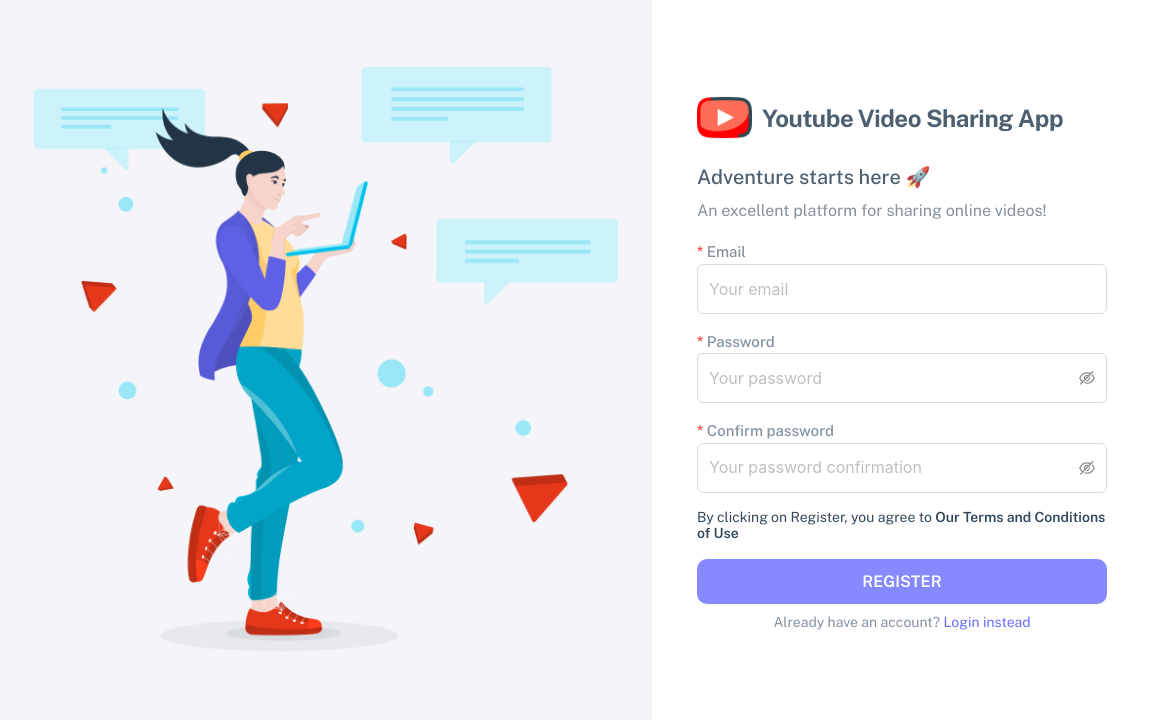
Test: Register Page › submits the register form in case empty confirm password, not empty email, not empty password
This screenshot has width=1152, height=720.
Type "client@gmail.com" into the field with placeholder "Your email". click: {"x": 902, "y": 289}
box: [697,264,1107,314]
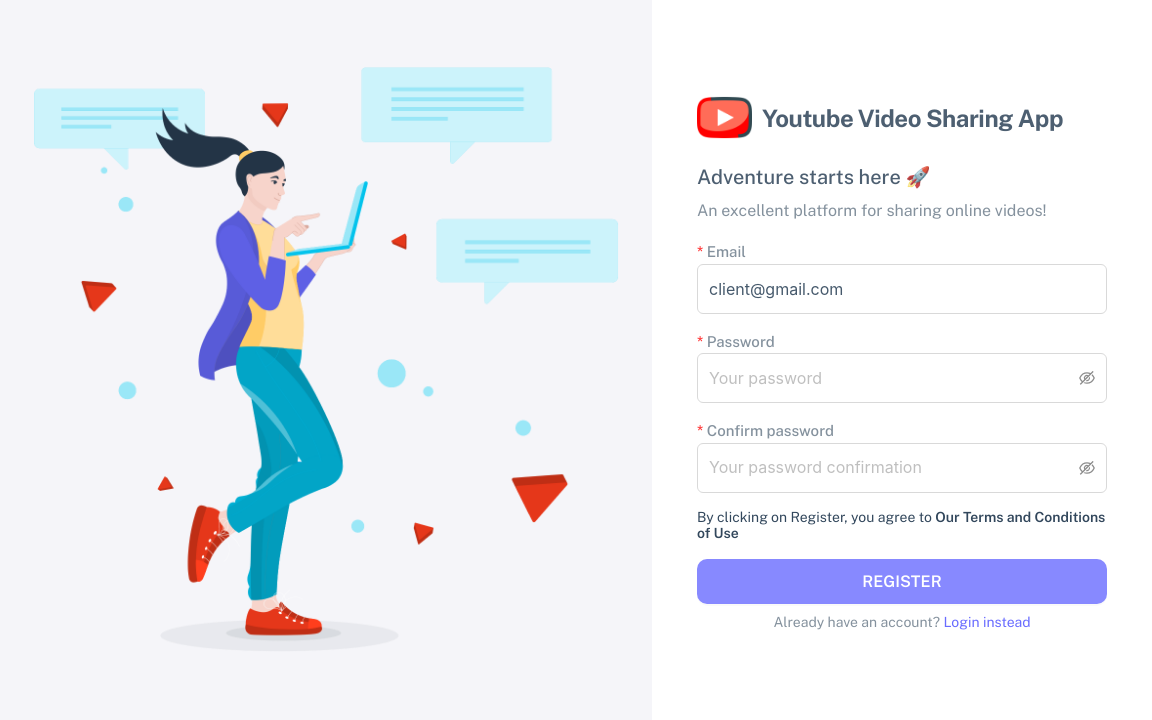
Type "123456" into the password field with placeholder "Your password". click: {"x": 892, "y": 378}
box: [709,358,1075,398]
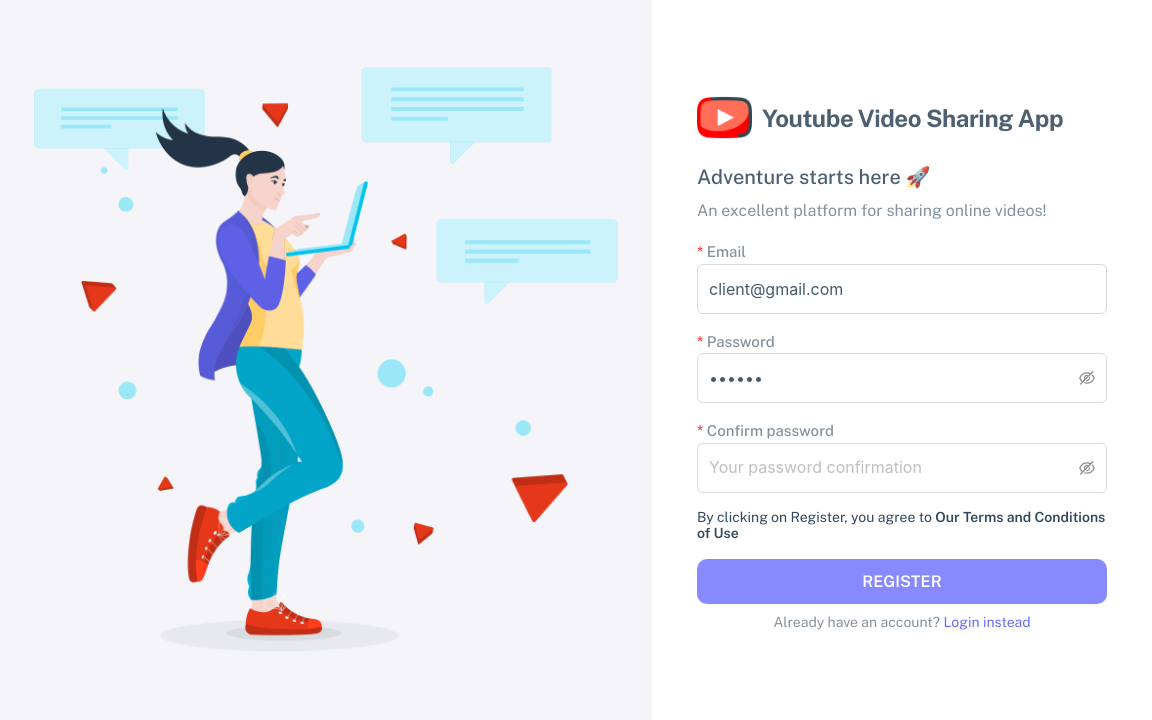
Click the button "REGISTER". click: {"x": 902, "y": 581}
box: [697,559,1107,604]
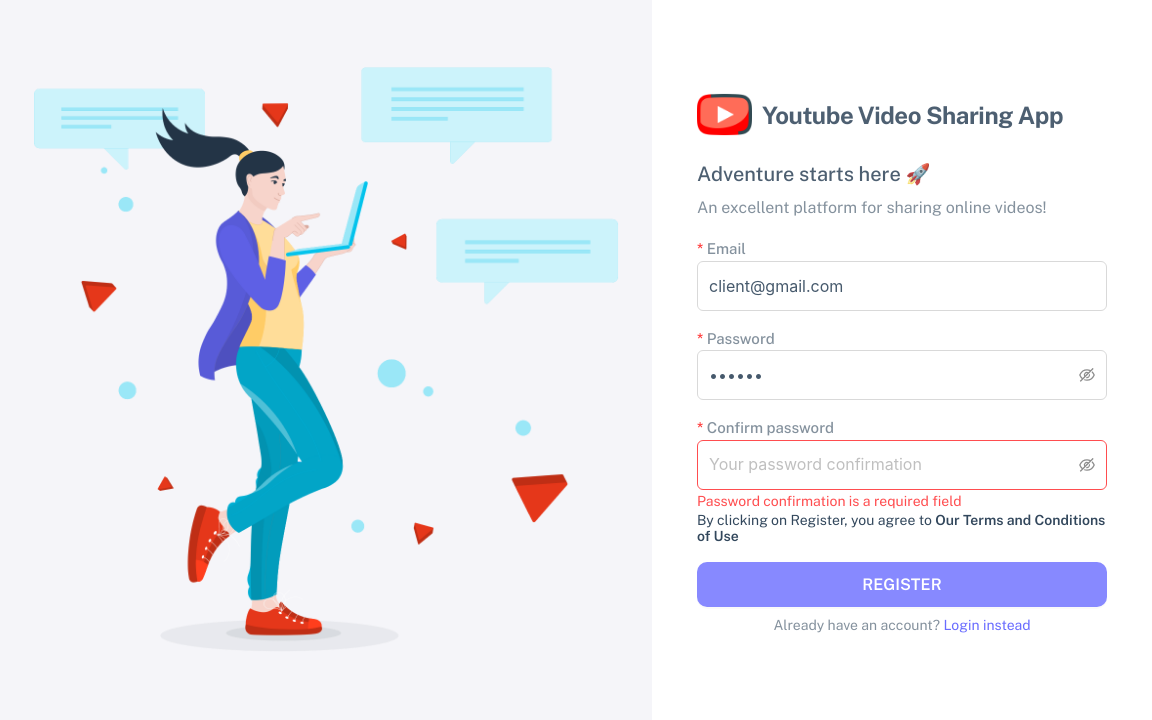
expect the text "Password confirmation is a required field" is shown: met, box [697,493,962,509]
